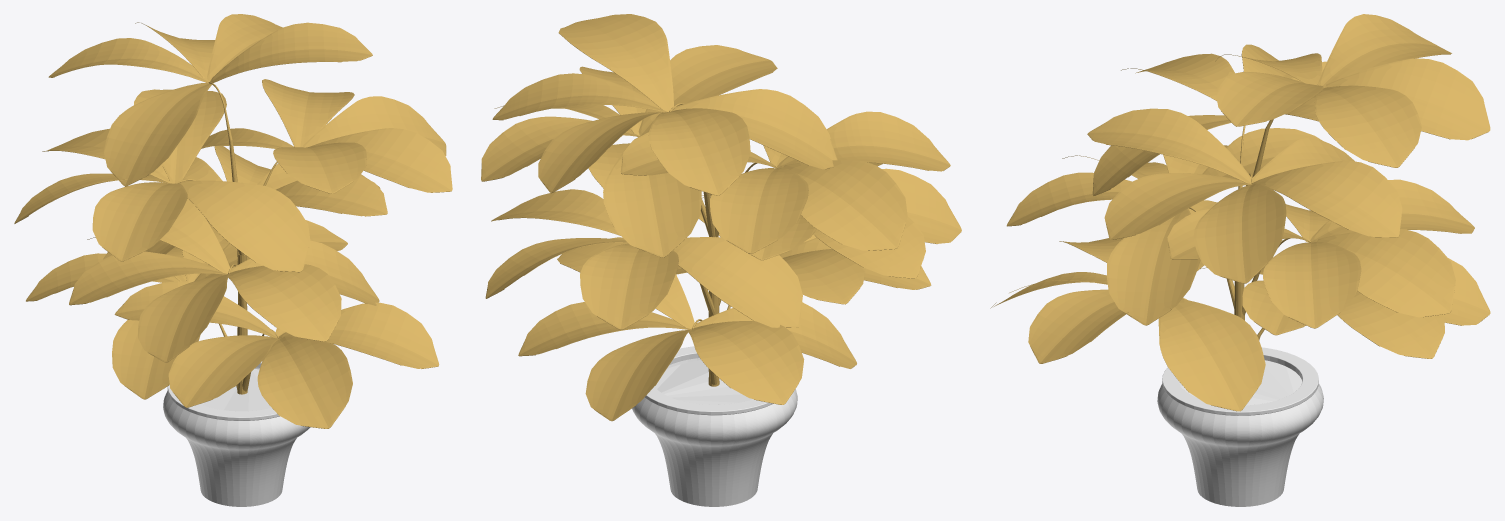
3 views of the same model, side by side, from view 1: azimuth 30°, elevation 25°; view 2: azimuth 150°, elevation 25°; view 3: azimuth 270°, elevation 25° (orthographic). The views are drawn at different scales.
Visible parts, largest first — view 1: Line001, Line009; view 2: Line001, Line009; view 3: Line001, Line009.
Boxes of the visible parts, x1=… form: Line001: x1=14, y1=14, x2=452, y2=428; Line009: x1=163, y1=361, x2=309, y2=506; Line001: x1=481, y1=14, x2=961, y2=421; Line009: x1=632, y1=346, x2=797, y2=506; Line001: x1=990, y1=14, x2=1490, y2=411; Line009: x1=1157, y1=347, x2=1323, y2=506.
Size of the model in its own units: 2.32 by 2.28 by 2.33.
